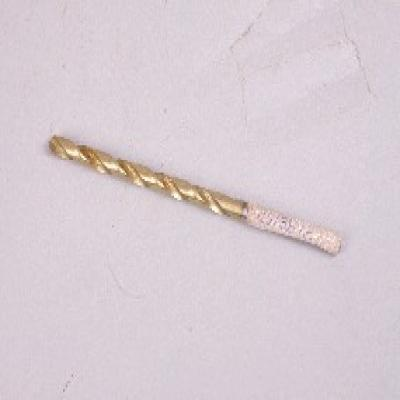technique: (48, 137, 342, 255)
